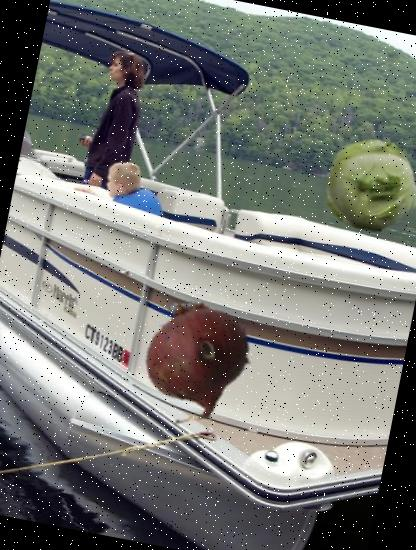Kohlrabi: (316, 128, 416, 242)
Onion: (115, 270, 278, 432)
